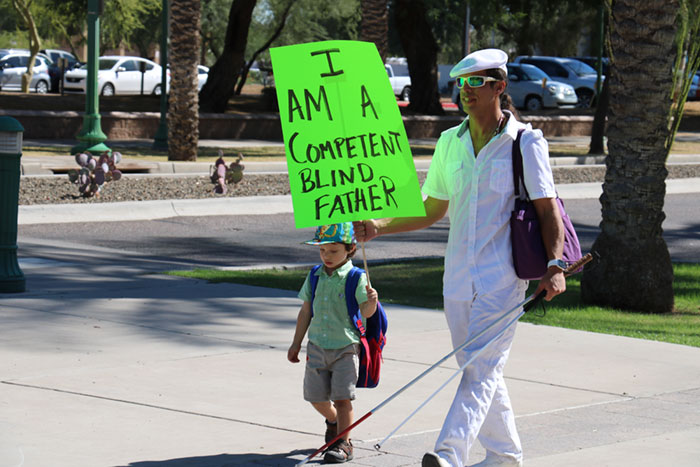Person: (354, 47, 568, 467), (287, 223, 378, 467)
